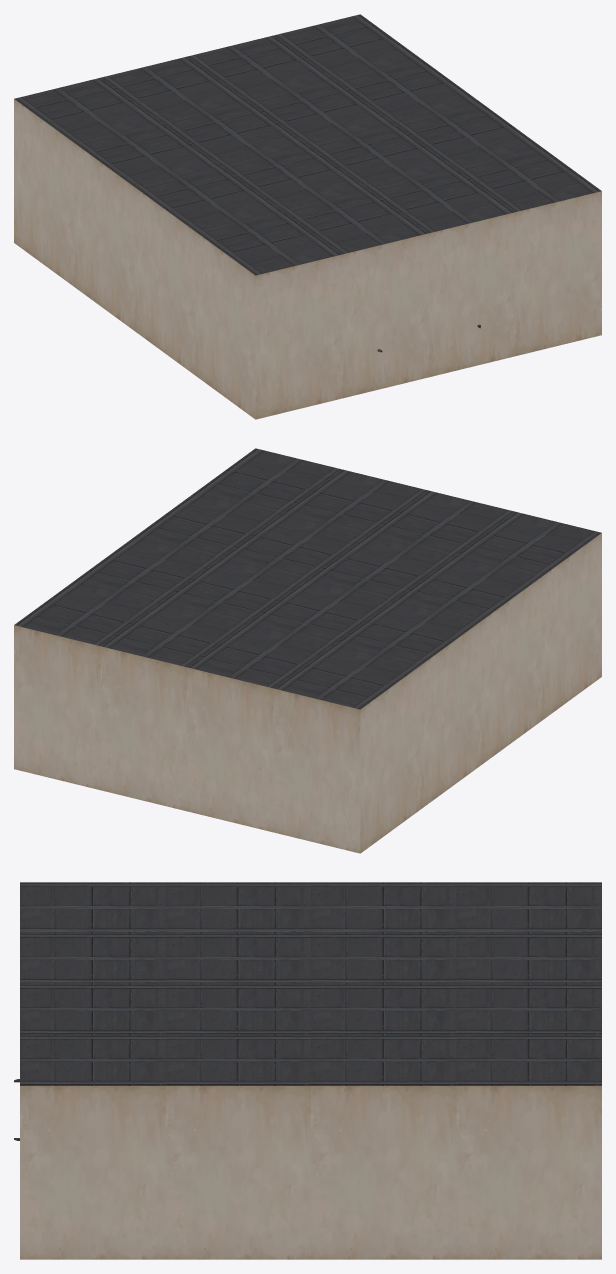
The model's file is IndoorScene_Dq_DonjonBattle01.fbx.
3 renders of one model, top to bottom at view 1: azimuth 30°, elevation 25°; view 2: azimuth 150°, elevation 25°; view 3: azimuth 270°, elevation 25°, orthographic. The views are drawn at different scales.
Parts seen in each view (by area): view 1: Indoor_Dq_Build_DonjonBattle_Filling_Vo; view 2: Indoor_Dq_Build_DonjonBattle_Filling_Vo; view 3: Indoor_Dq_Build_DonjonBattle_Filling_Vo.
Boxes of the visible parts, x1,y1,x2,y2 form: Indoor_Dq_Build_DonjonBattle_Filling_Vo: [14, 14, 601, 419]; Indoor_Dq_Build_DonjonBattle_Filling_Vo: [14, 448, 601, 853]; Indoor_Dq_Build_DonjonBattle_Filling_Vo: [20, 882, 601, 1259].
Size of what is drawn, in the model's own units: 73.13 by 29.06 by 89.26.
16 materials, 16 textured.
